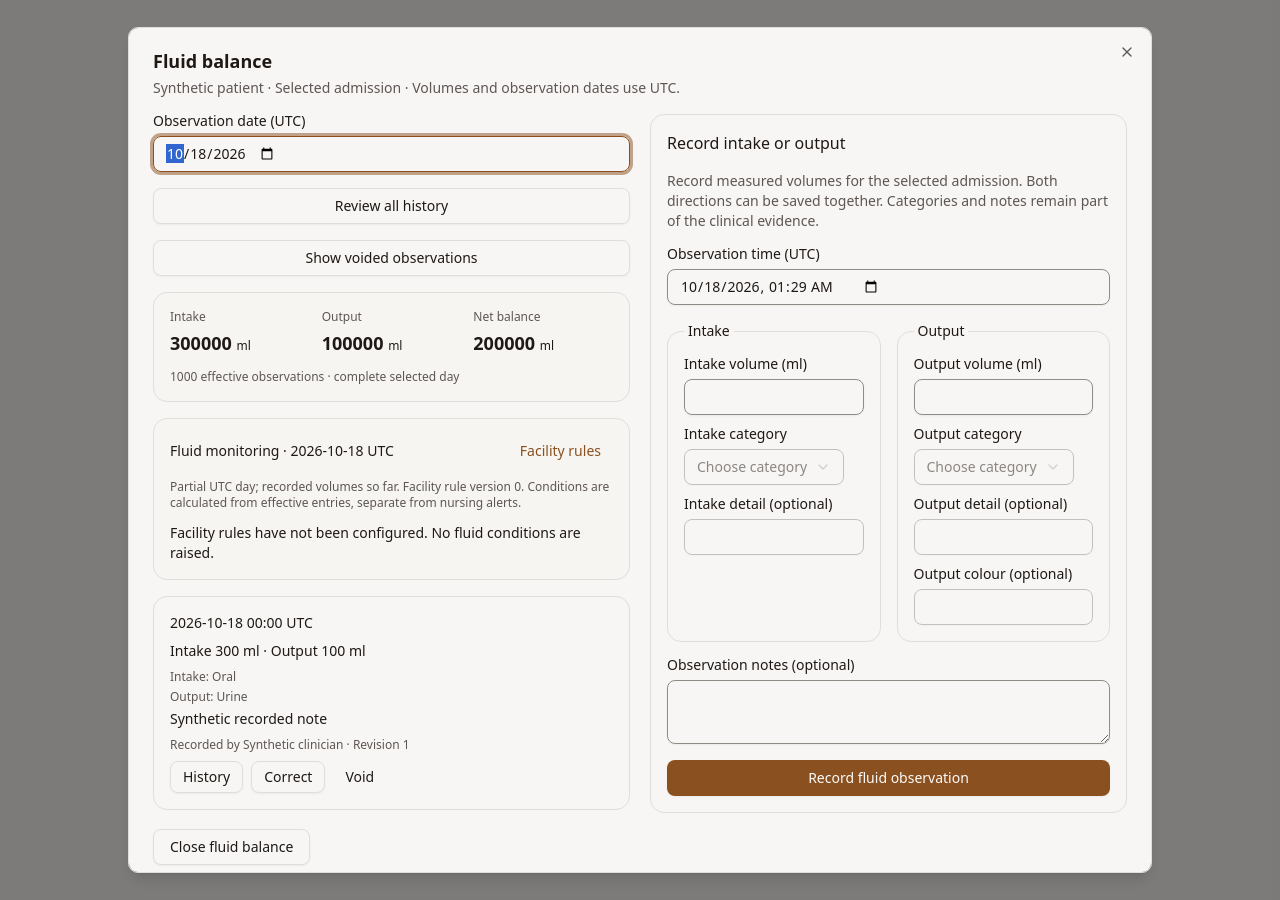
Scenario: reviews all effective history with full server totals and no date-scoped assessment claim
Expected: the text "Synthetic recorded note" is shown, 170,709 -> 327,728
Click the button "Review all history". click: (392,206)
box: 153,188 -> 630,224
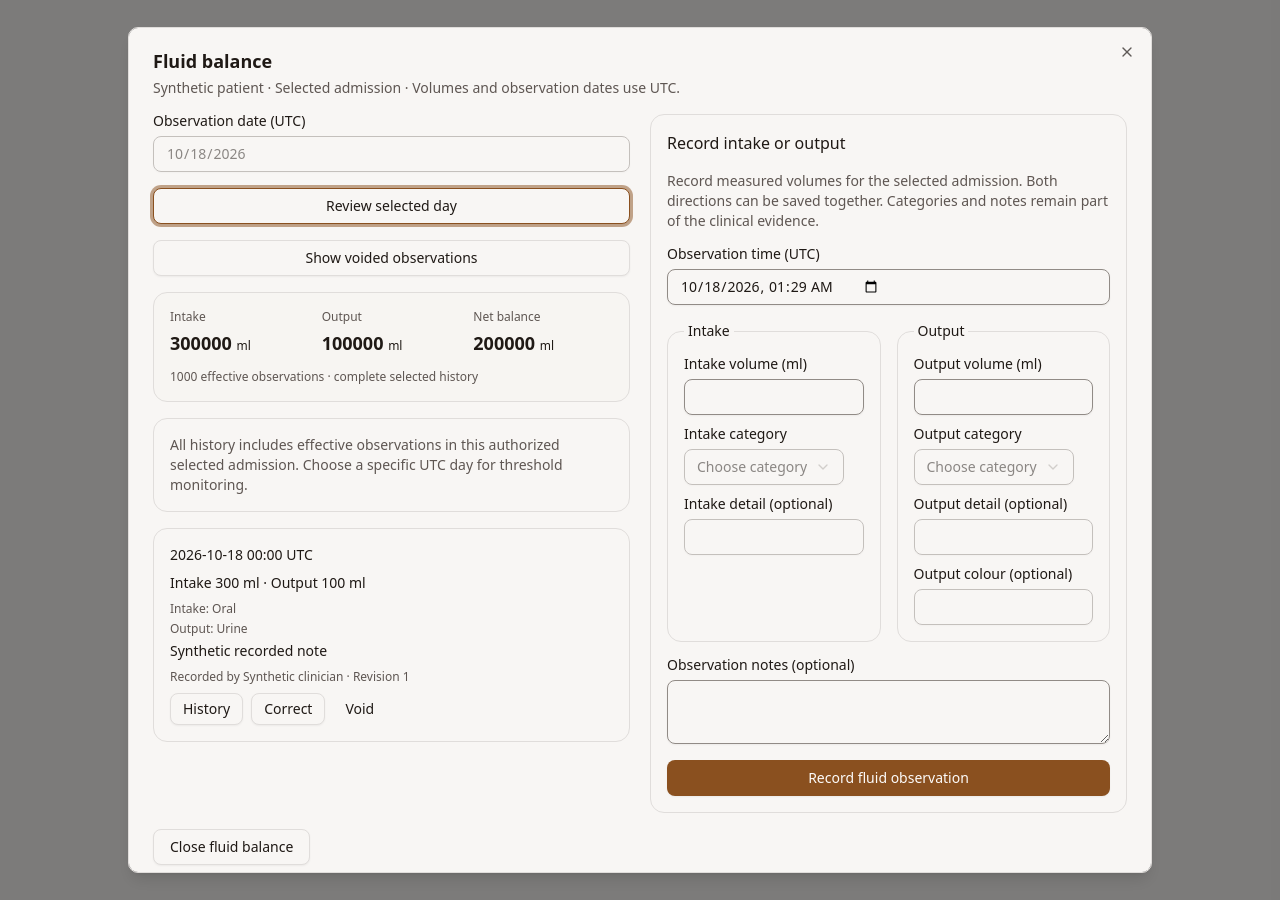
Expected: the text "1000 effective observations · complete selected history" is shown, 170,368 -> 478,385
Expected: the date field labelled "Observation date (UTC)" is disabled, 153,136 -> 630,172
Expected: the text "Choose a specific UTC day" is shown, 170,455 -> 563,494
